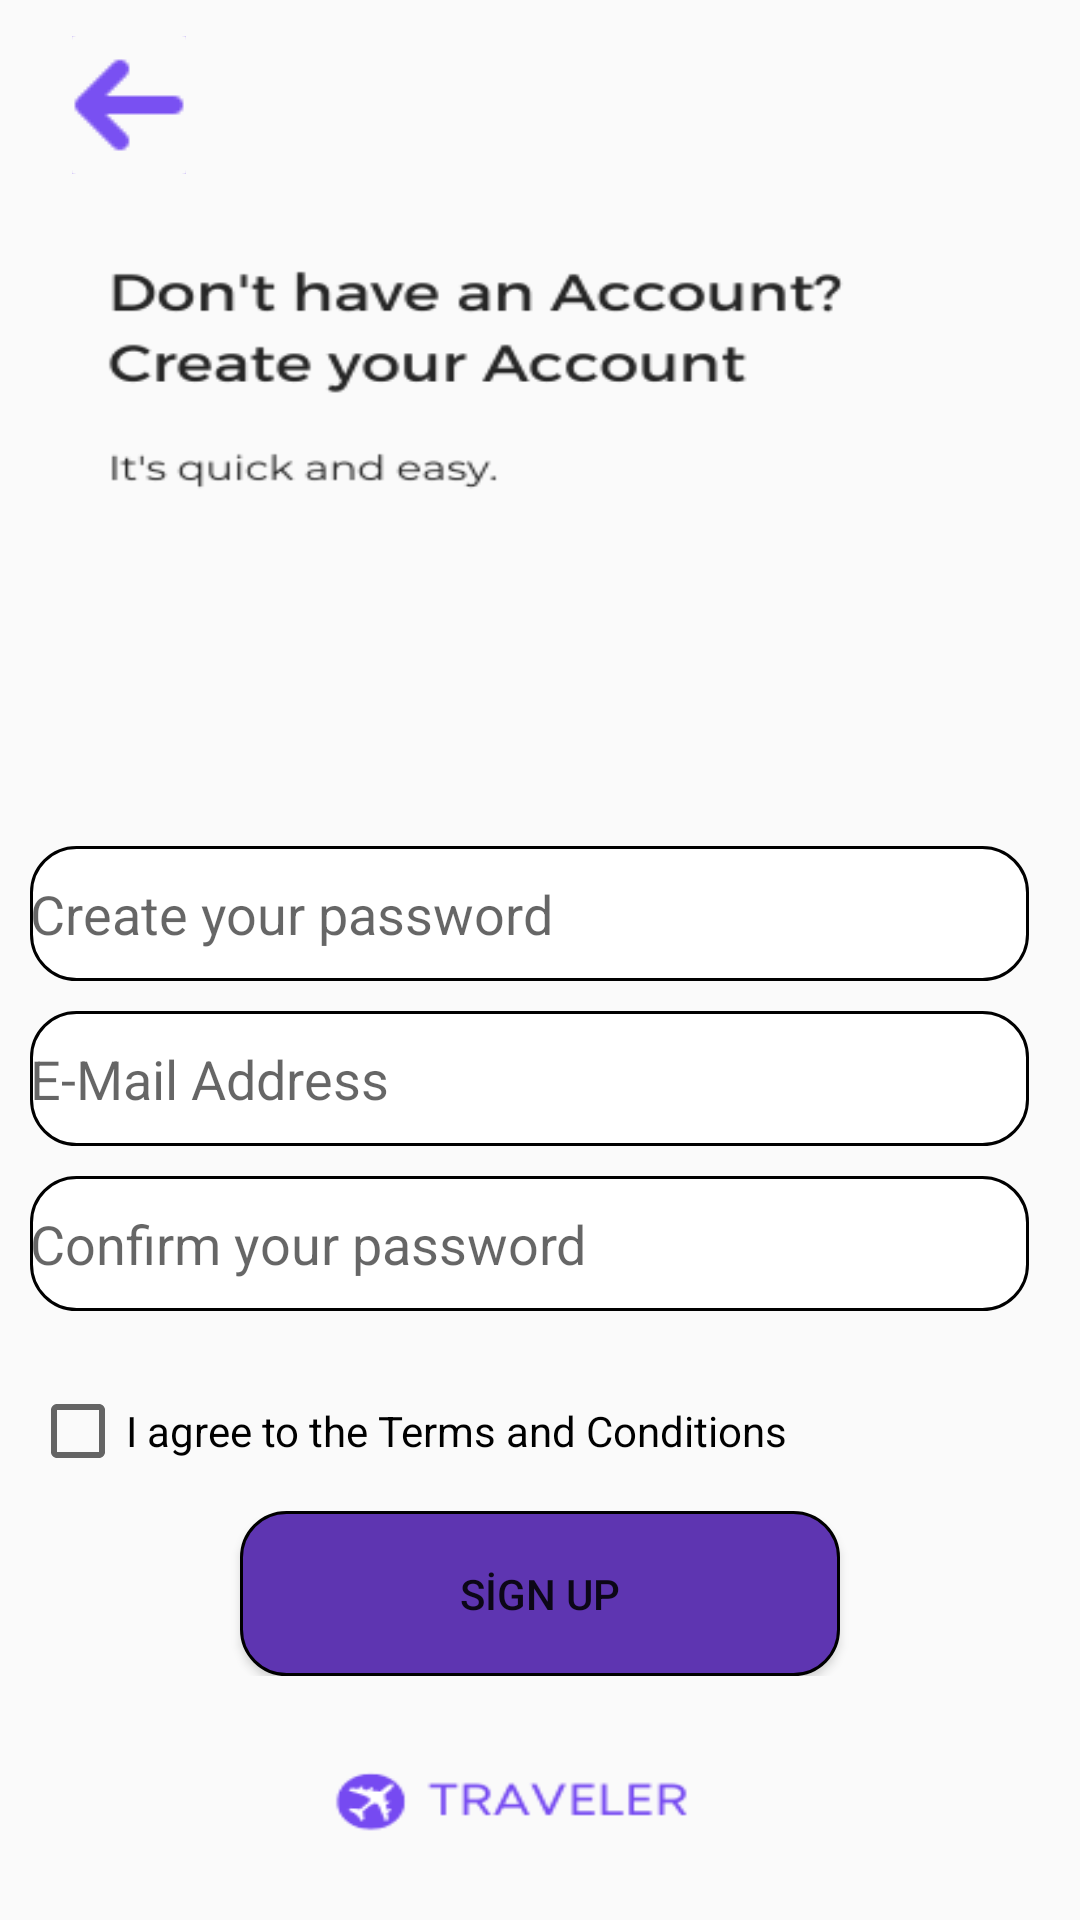

Icon click points for this 1080 × 1920 phone screenshot, format (x=x, y=y):
back: (x=129, y=105)
